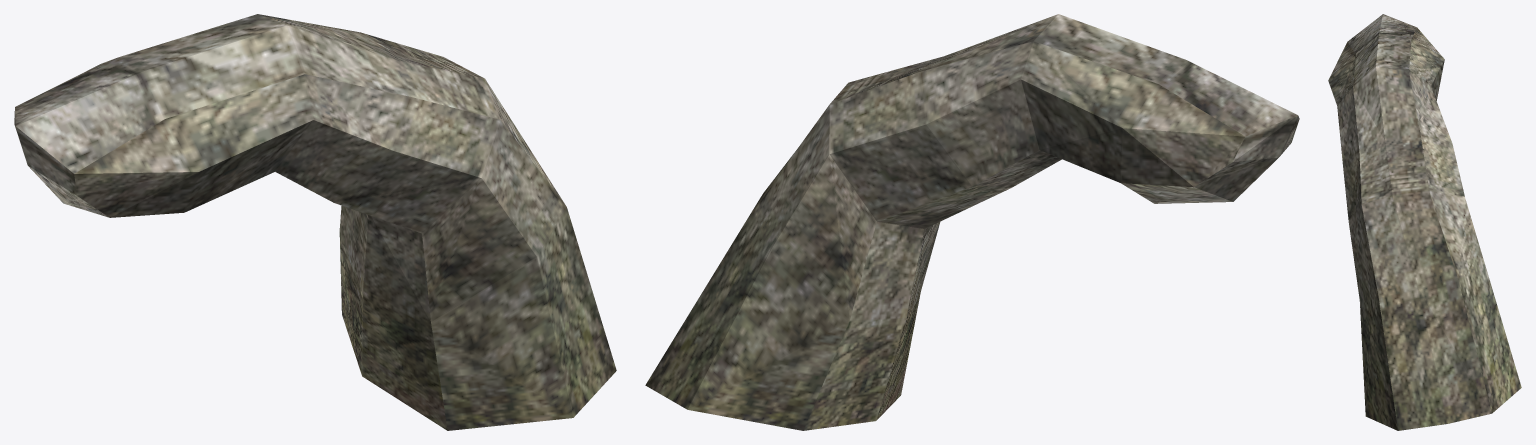
3 views of the same model, side by side, from view 1: azimuth 30°, elevation 25°; view 2: azimuth 150°, elevation 25°; view 3: azimuth 270°, elevation 25° (orthographic). The views are drawn at different scales.
Parts seen in each view (by area): view 1: Shape02; view 2: Shape02; view 3: Shape02.
Boxes of the visible parts, x1,y1,x2,y2 form: Shape02: (14, 14, 616, 430); Shape02: (645, 14, 1299, 430); Shape02: (1328, 14, 1521, 430).
Bounding box in the file's own units: 11.55 × 8.07 × 5.25.
1 material, 1 textured.
